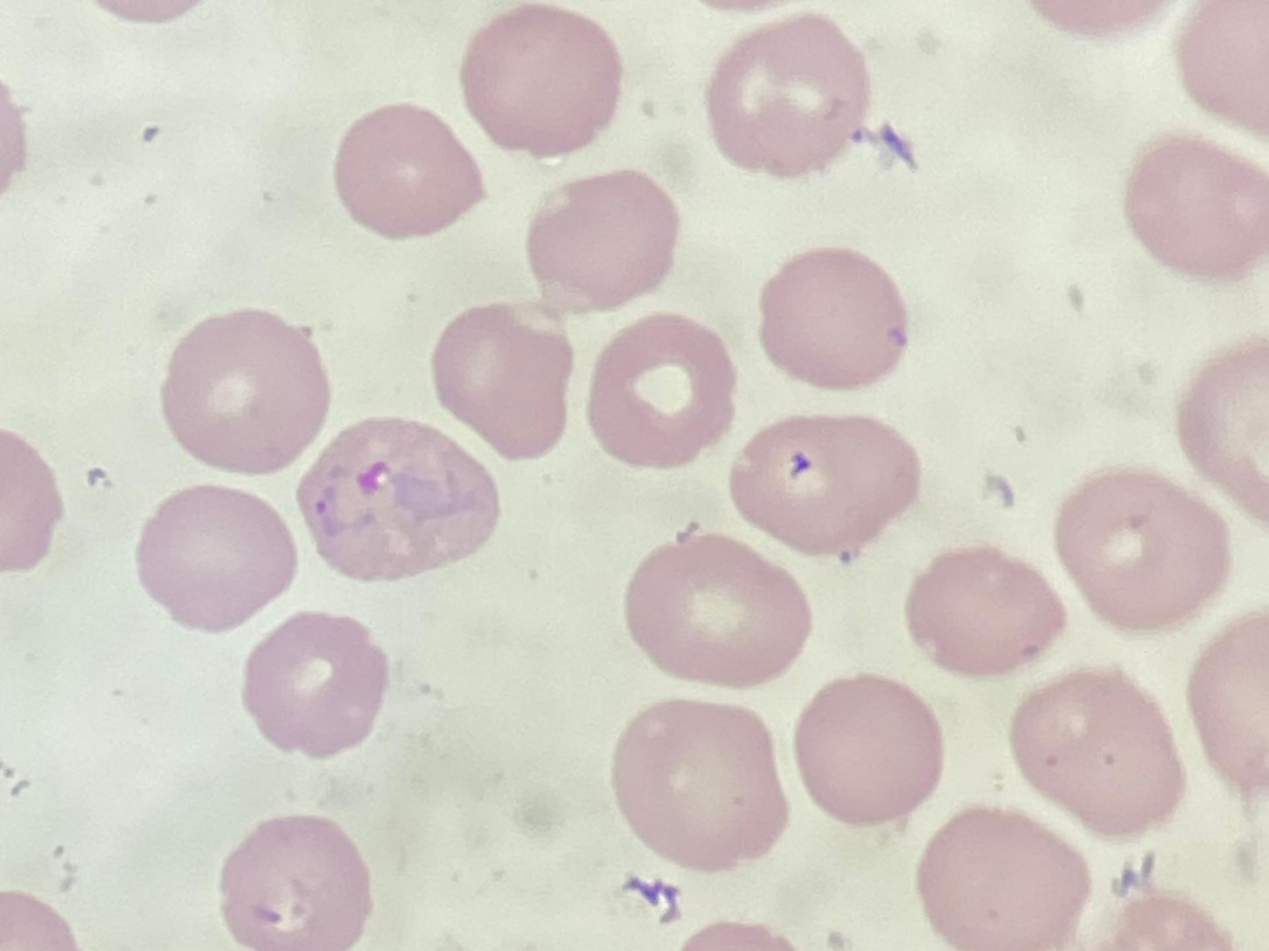Infected: (296, 417, 506, 586)
Uninfected: (611, 701, 788, 873), (625, 532, 815, 691), (1015, 666, 1186, 840), (1054, 470, 1233, 634), (162, 309, 331, 474), (730, 415, 922, 560), (704, 12, 873, 176), (917, 807, 1089, 951), (585, 309, 737, 466), (458, 5, 618, 153), (431, 301, 576, 462), (137, 488, 295, 633), (796, 673, 942, 828), (527, 169, 679, 317), (330, 101, 488, 240), (905, 546, 1067, 680), (241, 613, 387, 761), (1127, 131, 1269, 283), (757, 250, 910, 388), (216, 817, 372, 951)
